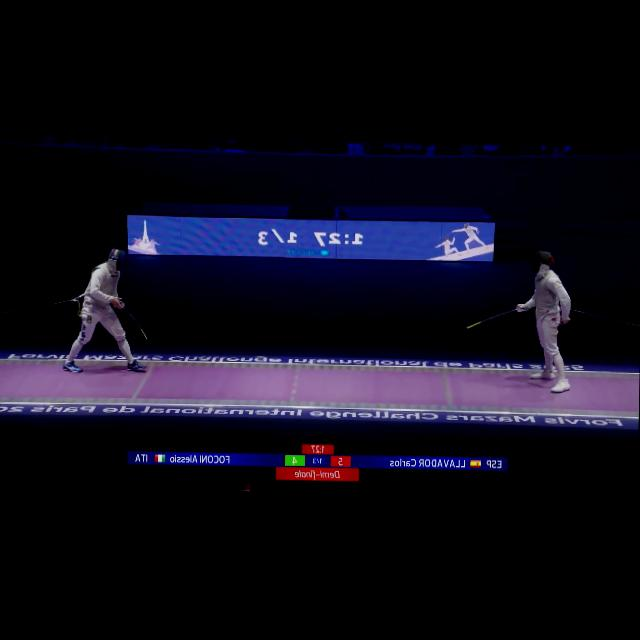blade: (462, 301, 526, 331), (110, 296, 152, 341)
